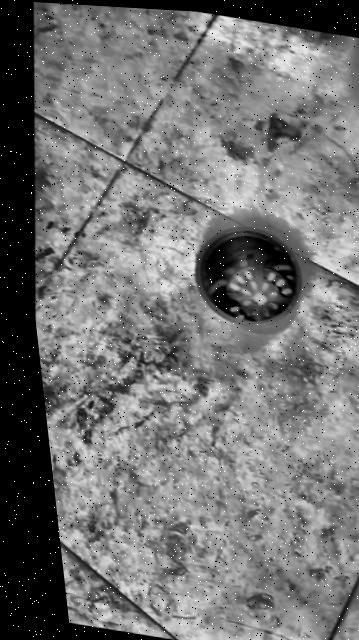pot: (183, 218, 313, 338)
